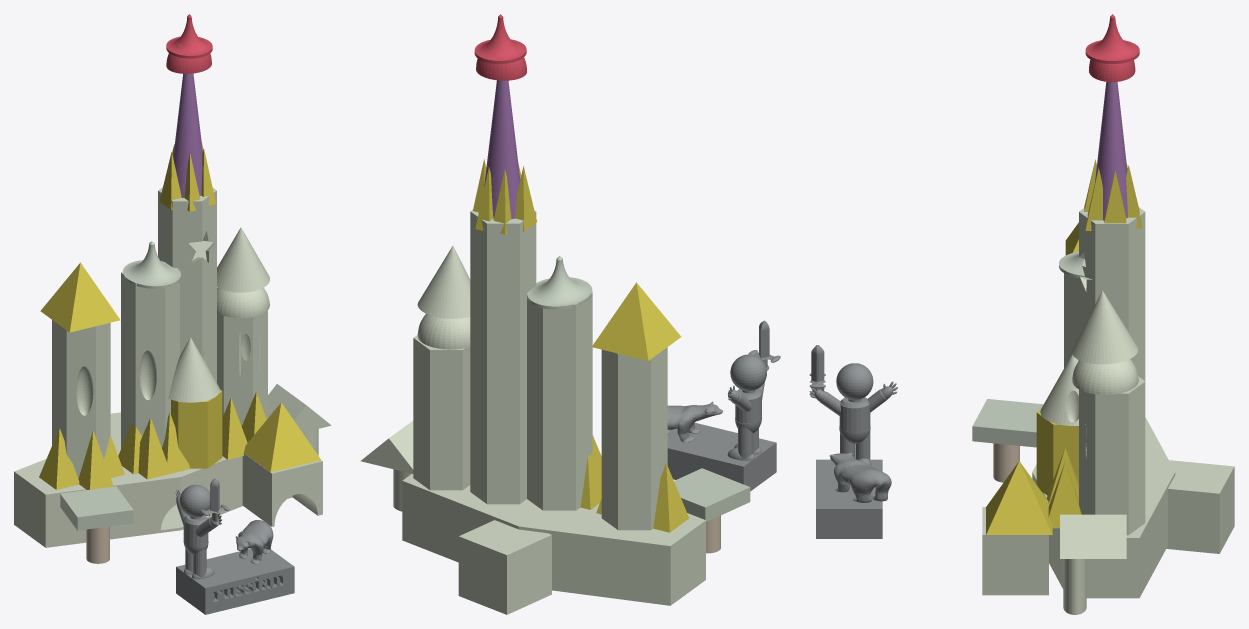
The model's file is Maxwell - The Kremlin.glb.
The picture shows the model from 3 angles, left to right: view 1: azimuth 30°, elevation 25°; view 2: azimuth 150°, elevation 25°; view 3: azimuth 270°, elevation 25°; orthographic projection. The views are drawn at different scales.
Visible parts, largest first — view 1: Mesh_Mesh_head_geo.001_lambert2SG.001; view 2: Mesh_Mesh_head_geo.001_lambert2SG.001; view 3: Mesh_Mesh_head_geo.001_lambert2SG.001.
Boxes of the visible parts, x1,y1,x2,y2 form: Mesh_Mesh_head_geo.001_lambert2SG.001: (14, 14, 331, 614); Mesh_Mesh_head_geo.001_lambert2SG.001: (360, 14, 780, 614); Mesh_Mesh_head_geo.001_lambert2SG.001: (809, 14, 1234, 614).
Size of the model in its own units: 0.1125 by 0.181 by 0.1278.
